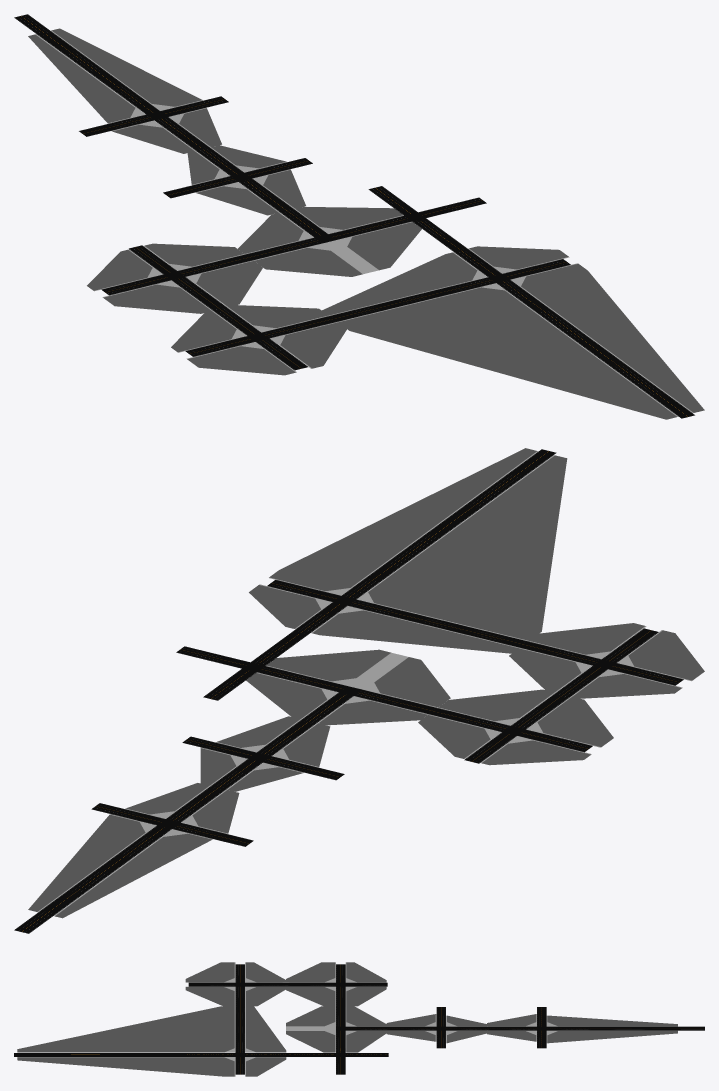
File: race8.fbx
3 renders of one model, top to bottom at view 1: azimuth 30°, elevation 25°; view 2: azimuth 150°, elevation 25°; view 3: azimuth 270°, elevation 25°, orthographic. The views are drawn at different scales.
Parts seen in each view (by area): view 1: polySurface81; view 2: polySurface81; view 3: polySurface81.
Part boxes in pixels (x1,y1,x2,y2): polySurface81: (14, 14, 704, 419); polySurface81: (14, 448, 704, 933); polySurface81: (14, 962, 704, 1076).
Bounding box in the file's own units: 44340 × 0 × 113354.
